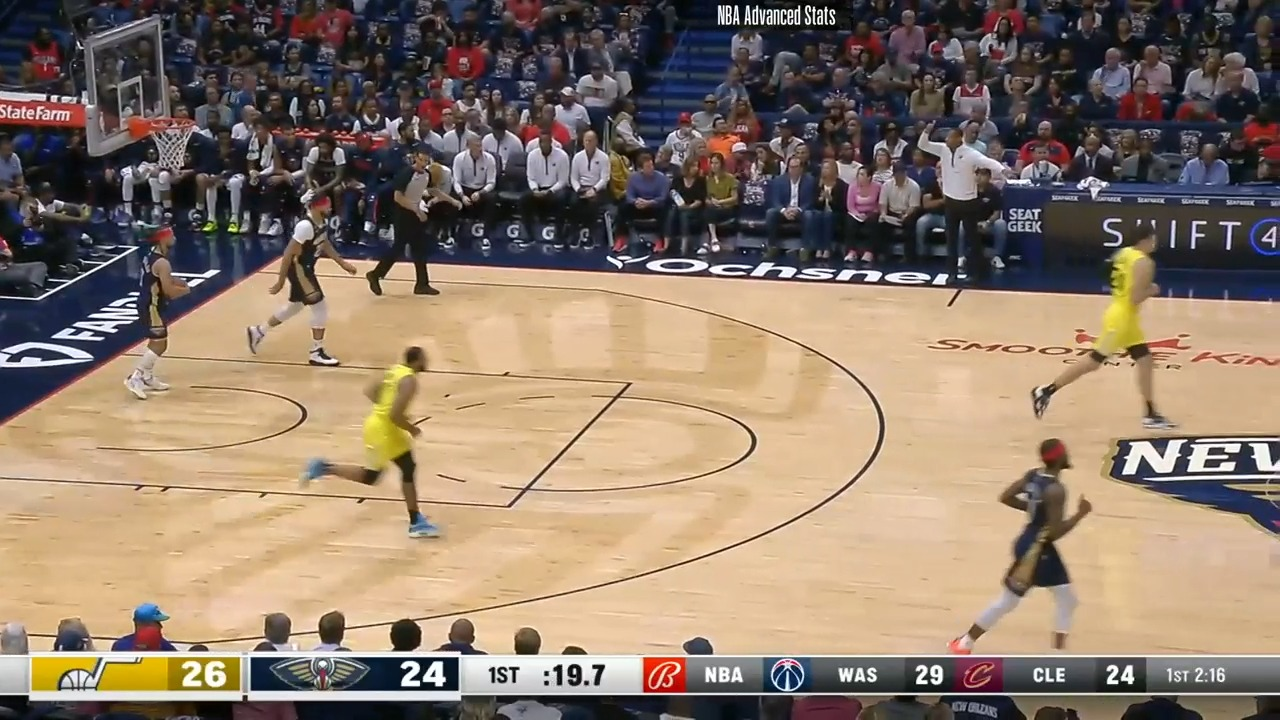net: (125, 110, 196, 167)
player: (950, 435, 1101, 655), (1036, 226, 1184, 430), (308, 346, 446, 543), (248, 197, 358, 371), (129, 229, 189, 402)
referee: (369, 148, 450, 303)
